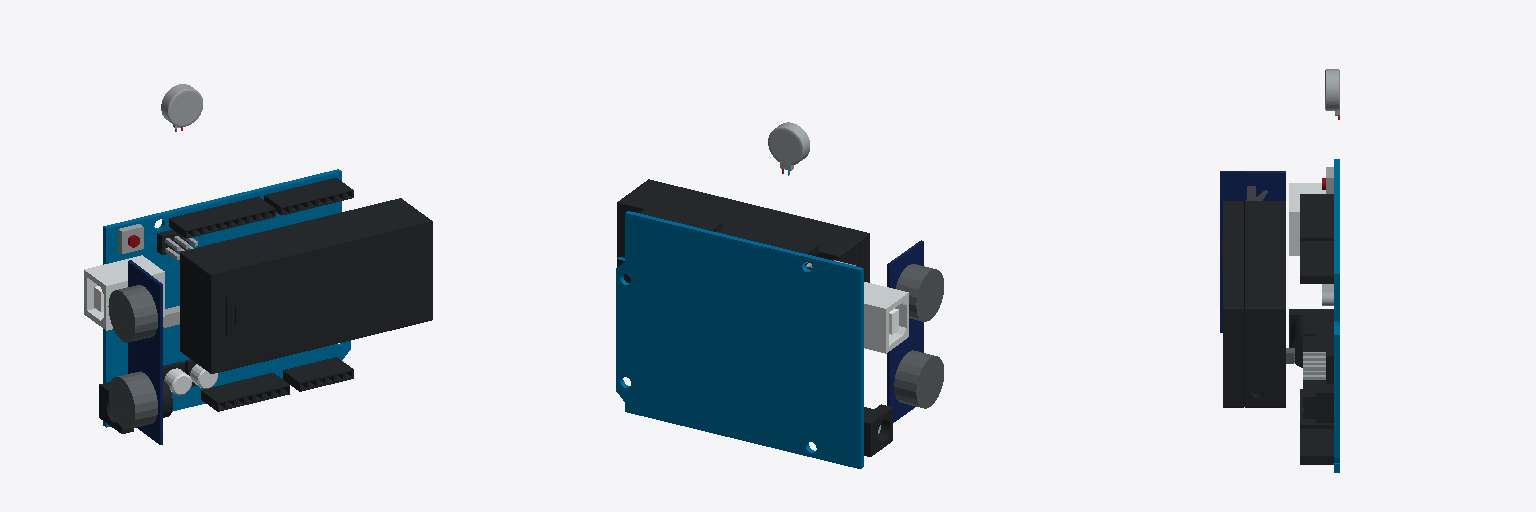
Rendered from tinker.obj.
3 renders of one model, left to right at view 1: azimuth 30°, elevation 25°; view 2: azimuth 150°, elevation 25°; view 3: azimuth 270°, elevation 25°, orthographic.
Visible parts, largest first — view 1: obj_0; view 2: obj_0; view 3: obj_0.
Boxes of the visible parts, x1,y1,x2,y2 form: obj_0: [84, 84, 432, 444]; obj_0: [616, 122, 943, 468]; obj_0: [1220, 69, 1339, 472].
Size of the model in its own units: 83.41 by 86.71 by 29.22.